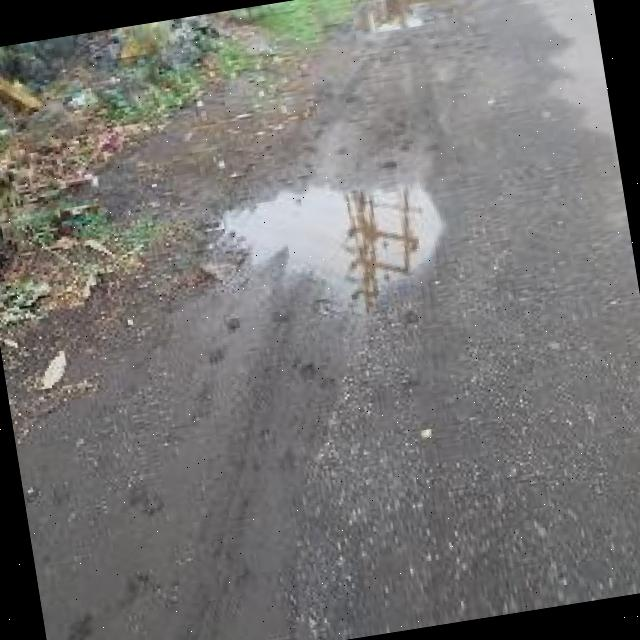stagnation: (216, 148, 460, 332)
